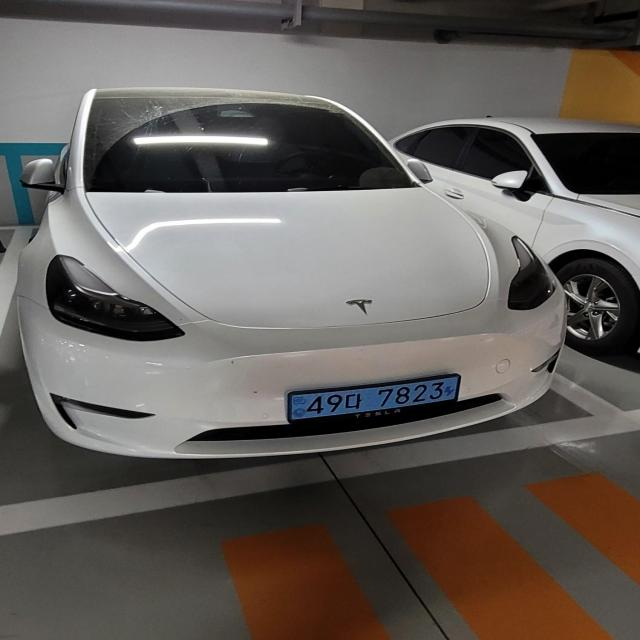EV_plate: (285, 376, 467, 430)
car: (18, 82, 578, 464)
